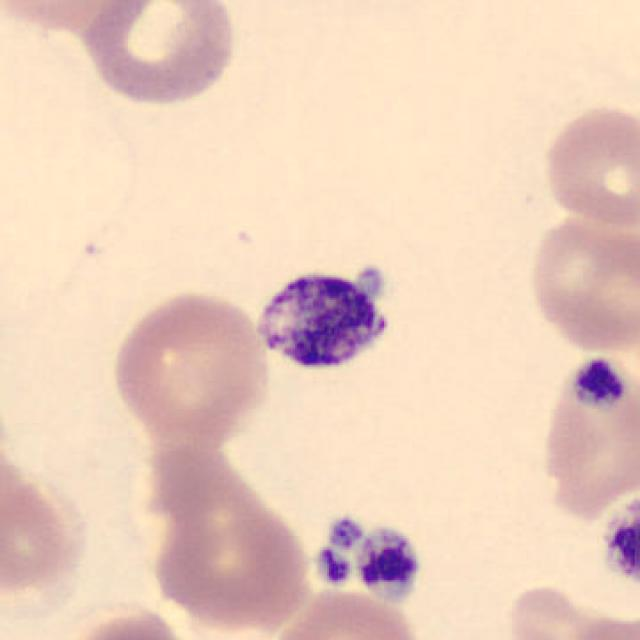Platelets: (256, 266, 392, 375), (263, 584, 427, 638), (354, 522, 425, 605), (595, 482, 640, 592), (569, 354, 631, 412), (313, 546, 355, 589), (322, 513, 364, 555)
RBC: (142, 463, 315, 634), (107, 286, 272, 450), (535, 352, 640, 526), (78, 0, 240, 109), (0, 434, 94, 612), (523, 210, 638, 354), (539, 101, 638, 229), (261, 583, 430, 640), (503, 582, 633, 640), (43, 601, 201, 640), (0, 0, 146, 37), (558, 610, 636, 640)
